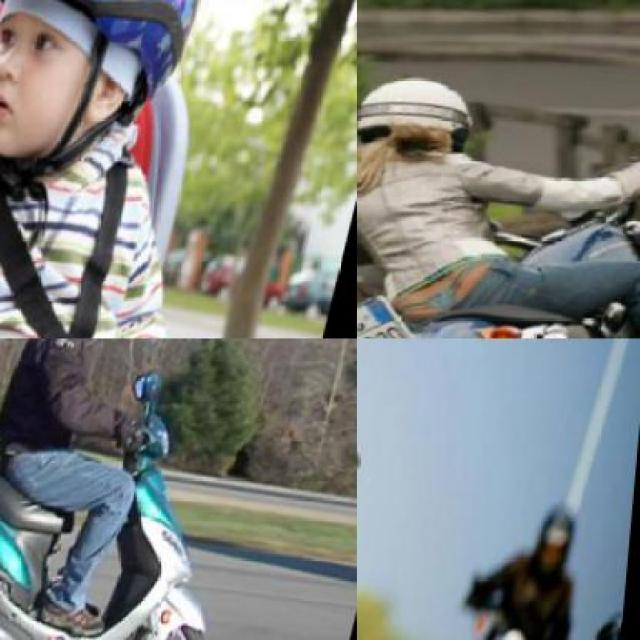With Helmet: (0, 0, 240, 195), (357, 57, 497, 180), (529, 506, 589, 596)
